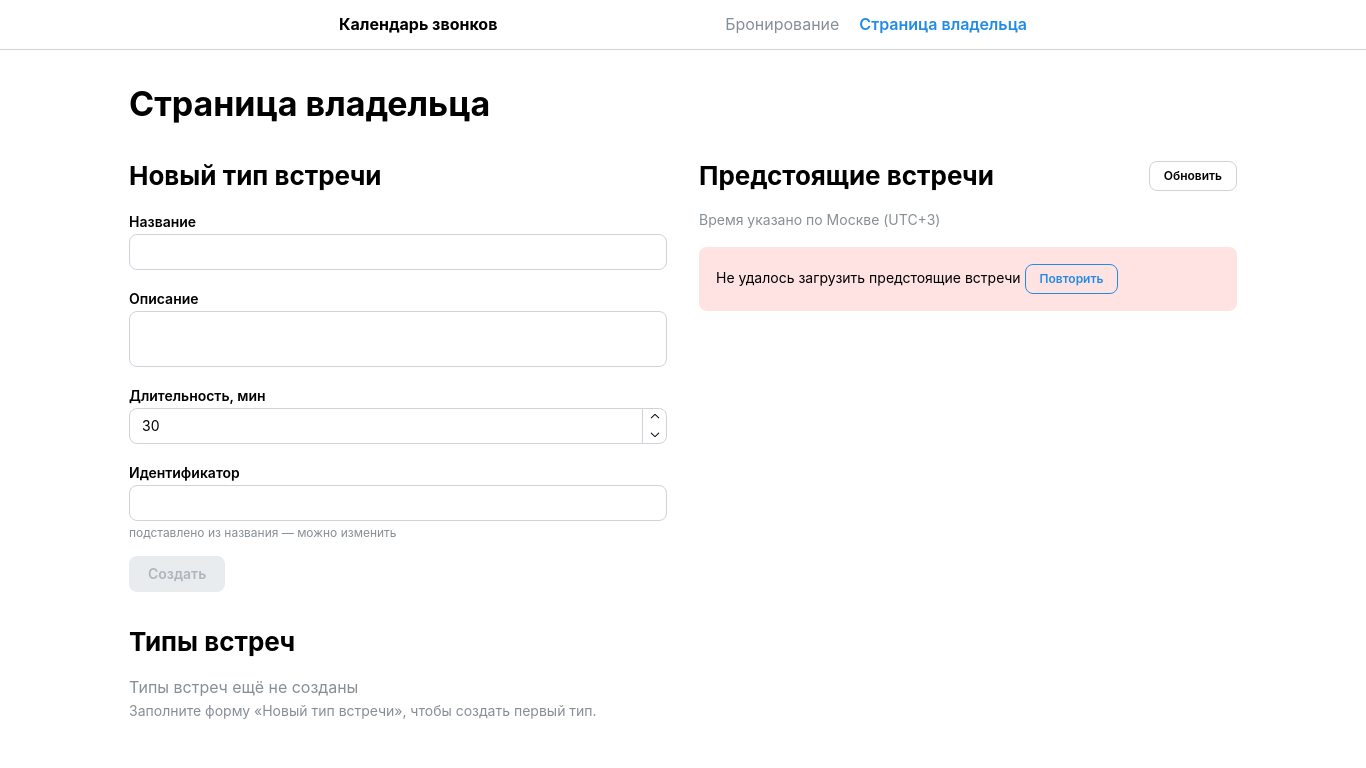
Test case: main page › returns to the main page through the header title
Click the link "Календарь звонков" at (418, 24), box x1=339 y1=12 x2=497 y2=37
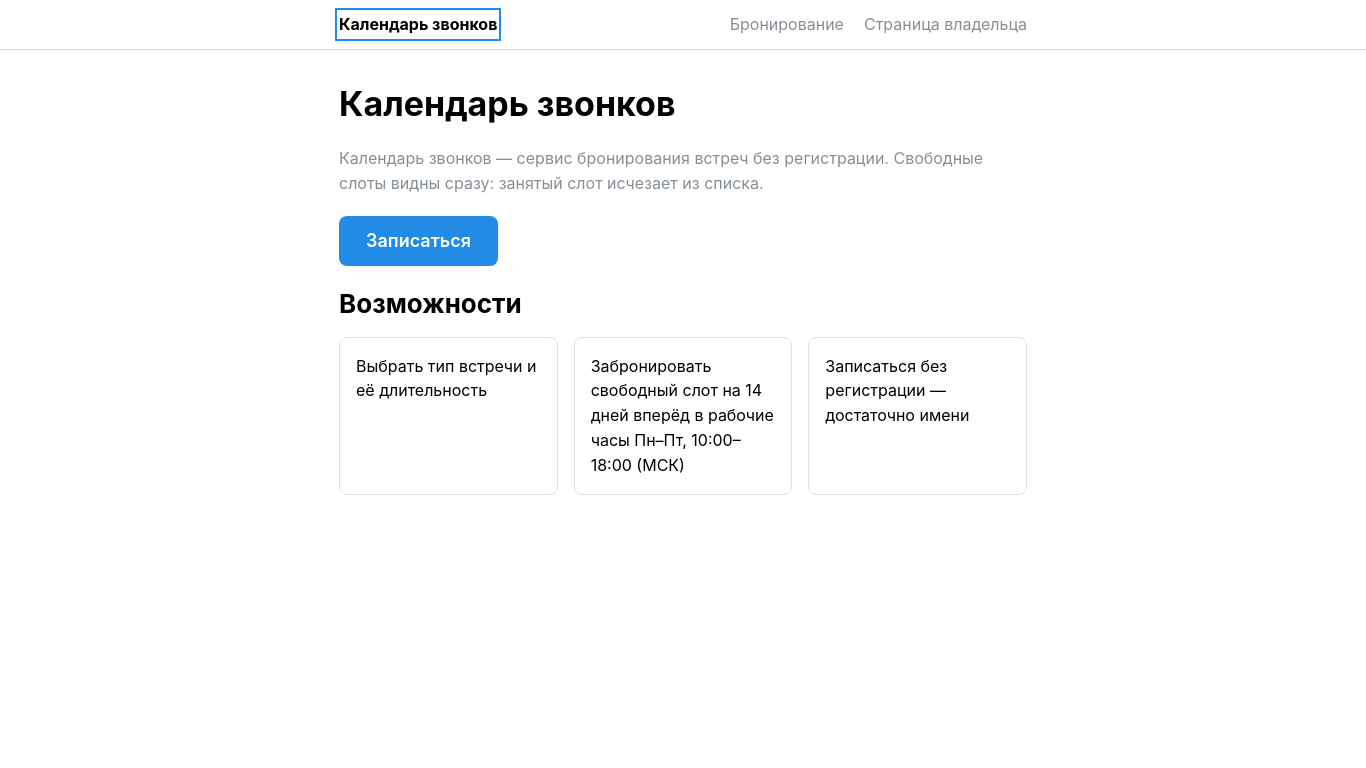
Now the heading "Календарь звонков" is shown, box x1=339 y1=83 x2=676 y2=124
